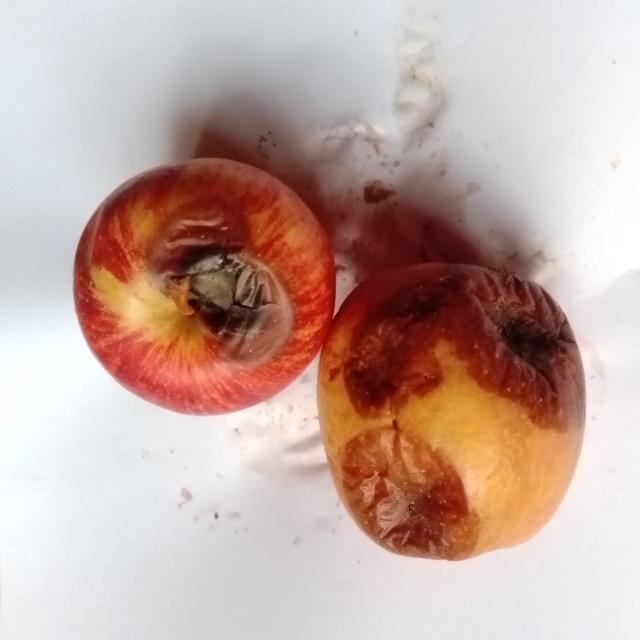apple: (319, 264, 585, 559), (75, 159, 334, 414)
